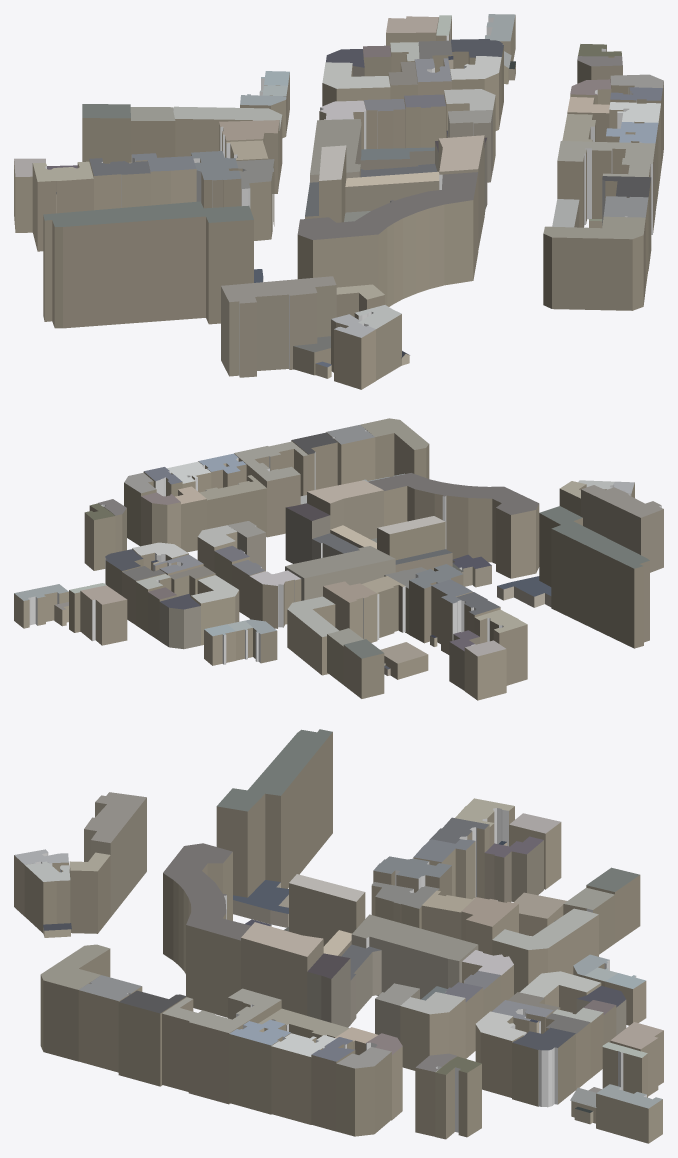
3 views of the same model, one above another, from view 1: azimuth 30°, elevation 25°; view 2: azimuth 150°, elevation 25°; view 3: azimuth 270°, elevation 25° (orthographic). The views are drawn at different scales.
Parts seen in each view (by area): view 1: tuile; view 2: tuile; view 3: tuile.
Part boxes in pixels (<box>): tuile: <box>14,14,663,389</box>; tuile: <box>14,418,663,700</box>; tuile: <box>14,729,663,1143</box>.
Bounding box in the file's own units: 294 × 46.25 × 258.
